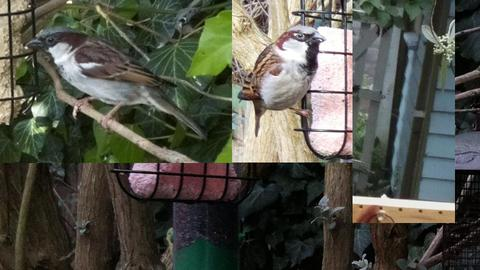sparrow: (25, 25, 207, 138), (236, 25, 328, 138)
